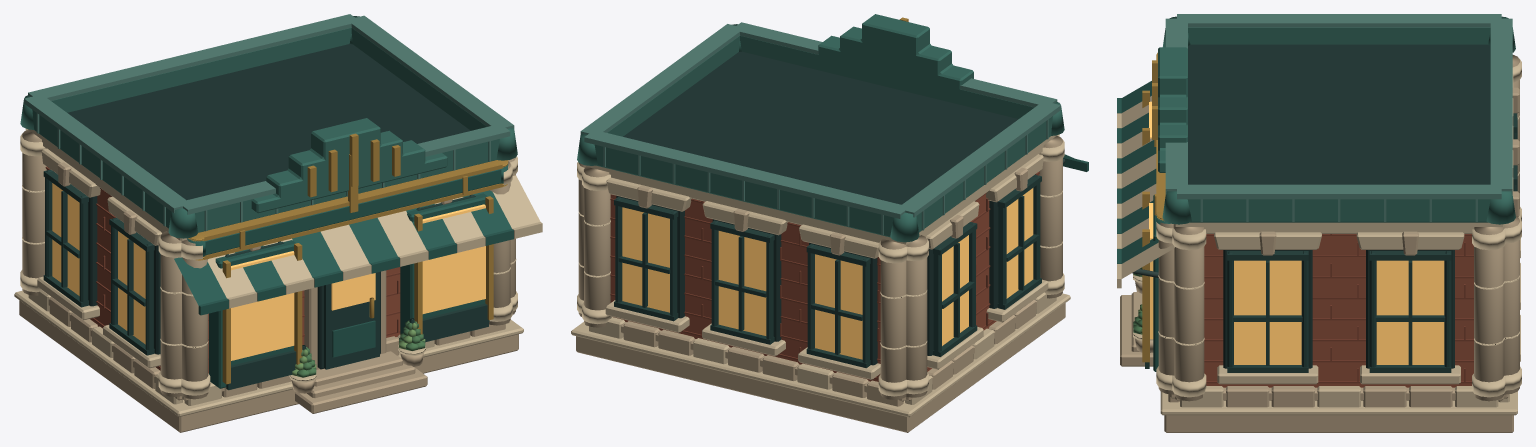
The picture shows the model from 3 angles, left to right: view 1: azimuth 30°, elevation 25°; view 2: azimuth 150°, elevation 25°; view 3: azimuth 270°, elevation 25°; orthographic projection. The views are drawn at different scales.
Parts seen in each view (by area): view 1: expansion_shop_1_geometry; view 2: expansion_shop_1_geometry; view 3: expansion_shop_1_geometry.
Boxes of the visible parts, x1,y1,x2,y2 form: expansion_shop_1_geometry: (14, 14, 542, 432); expansion_shop_1_geometry: (571, 14, 1088, 432); expansion_shop_1_geometry: (1117, 14, 1521, 432).
Size of the model in its own units: 0.99 by 0.6946 by 0.9029.
